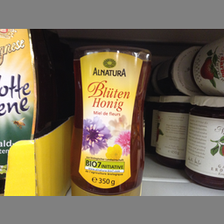honey: (67, 45, 152, 197)
